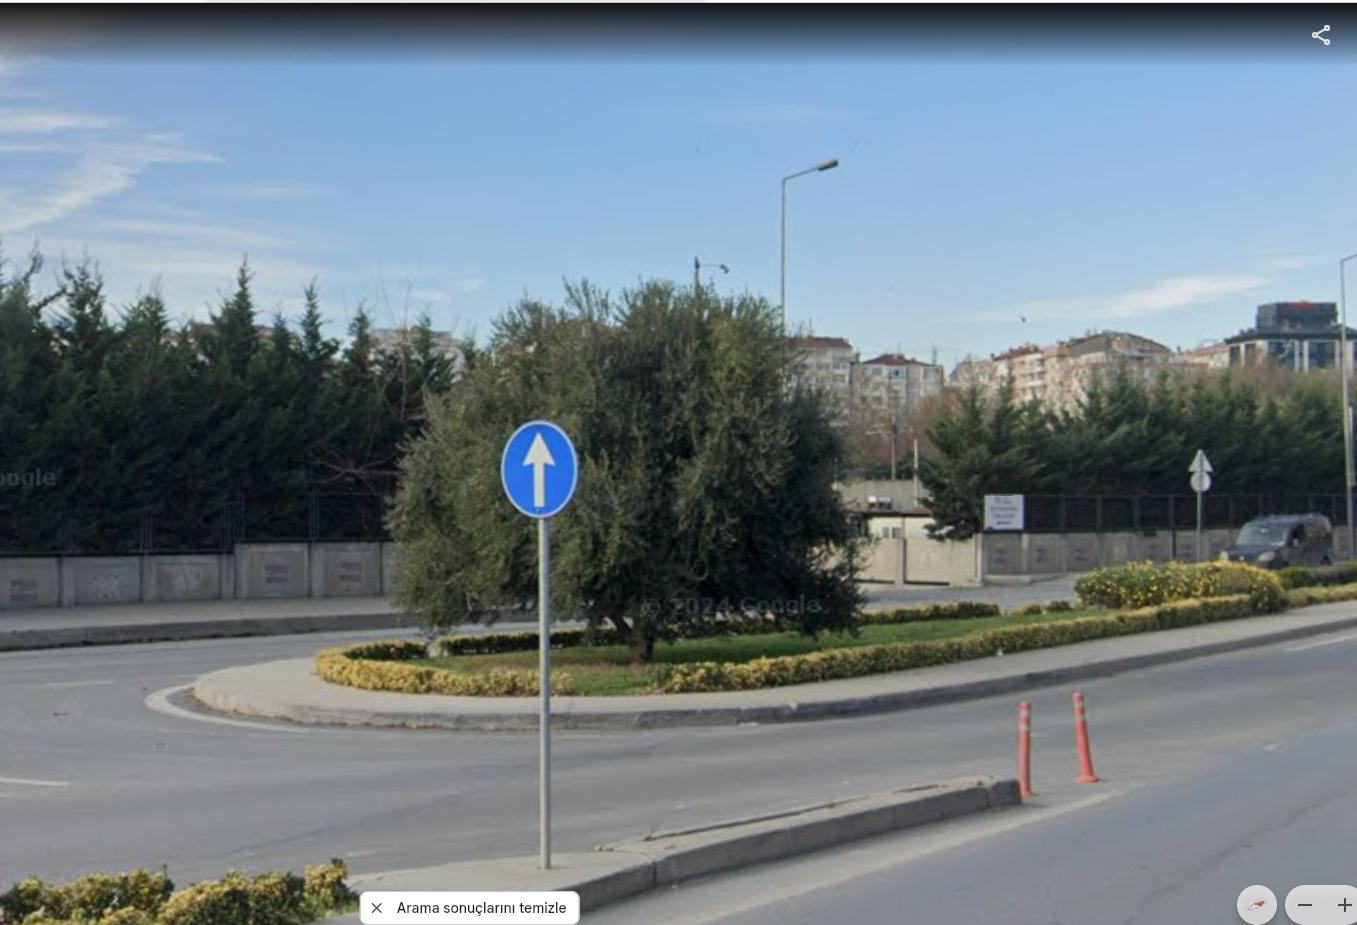forward: (502, 421, 583, 517)
